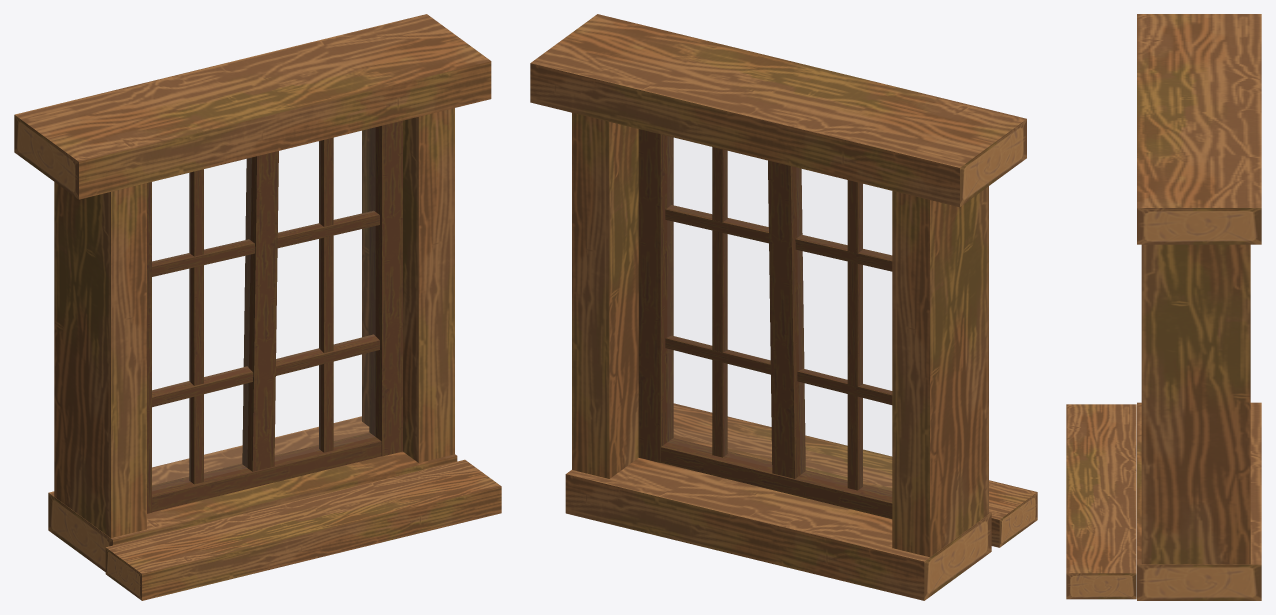
File: Window_Wide_Flat1.gltf
The picture shows the model from 3 angles, left to right: view 1: azimuth 30°, elevation 25°; view 2: azimuth 150°, elevation 25°; view 3: azimuth 270°, elevation 25°; orthographic projection. The views are drawn at different scales.
Visible parts, largest first — view 1: Window_Wide_Flat1; view 2: Window_Wide_Flat1; view 3: Window_Wide_Flat1.
Part boxes in pixels (<box>): Window_Wide_Flat1: <box>14,14,501,600</box>; Window_Wide_Flat1: <box>530,14,1037,600</box>; Window_Wide_Flat1: <box>1066,14,1261,600</box>.
Bounding box in the file's own units: 1.61 × 1.58 × 0.6834.
Materials: 2 (1 with a texture image).
